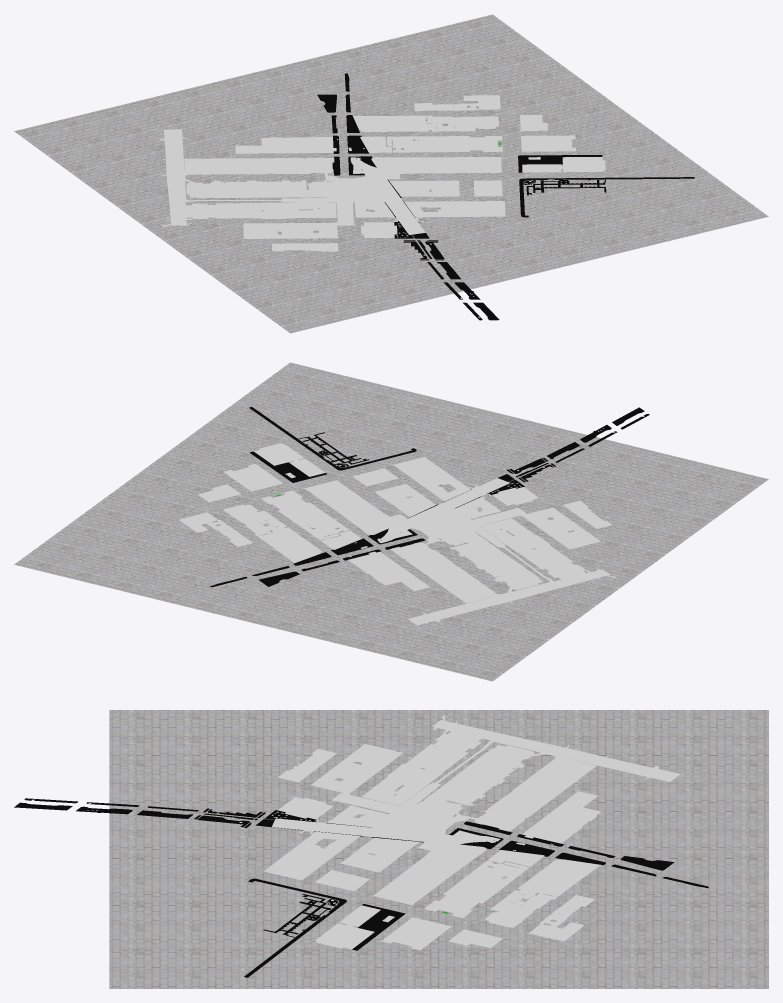
The model's file is City.glb.
3 views of the same model, one above another, from view 1: azimuth 30°, elevation 25°; view 2: azimuth 150°, elevation 25°; view 3: azimuth 270°, elevation 25° (orthographic). The views are drawn at different scales.
Visible parts, largest first — view 1: Plane, map_3.osm_buildings, map_3.osm_areas_pedestrian; view 2: Plane, map_3.osm_buildings, map_3.osm_areas_pedestrian; view 3: Plane, map_3.osm_buildings, map_3.osm_areas_pedestrian.
Boxes of the visible parts, x1,y1,x2,y2 form: Plane: (14,14,768,333); map_3.osm_buildings: (160,95,605,317); map_3.osm_areas_pedestrian: (317,73,694,320); Plane: (14,362,768,681); map_3.osm_buildings: (179,415,644,625); map_3.osm_areas_pedestrian: (210,407,649,587); Plane: (109,710,768,988); map_3.osm_buildings: (32,716,679,950); map_3.osm_areas_pedestrian: (14,798,708,977).
Size of the model in its own units: 83.22 by 0.2209 by 95.24.
4 materials, 1 textured.
